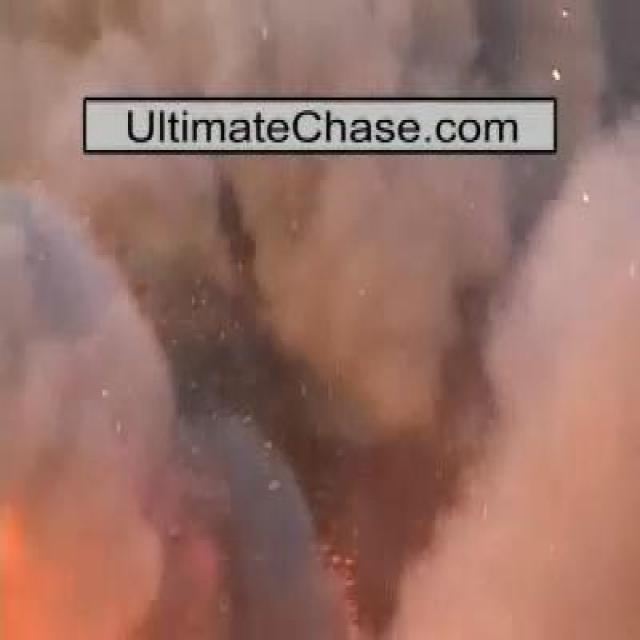Smoke: (41, 162, 601, 600)
